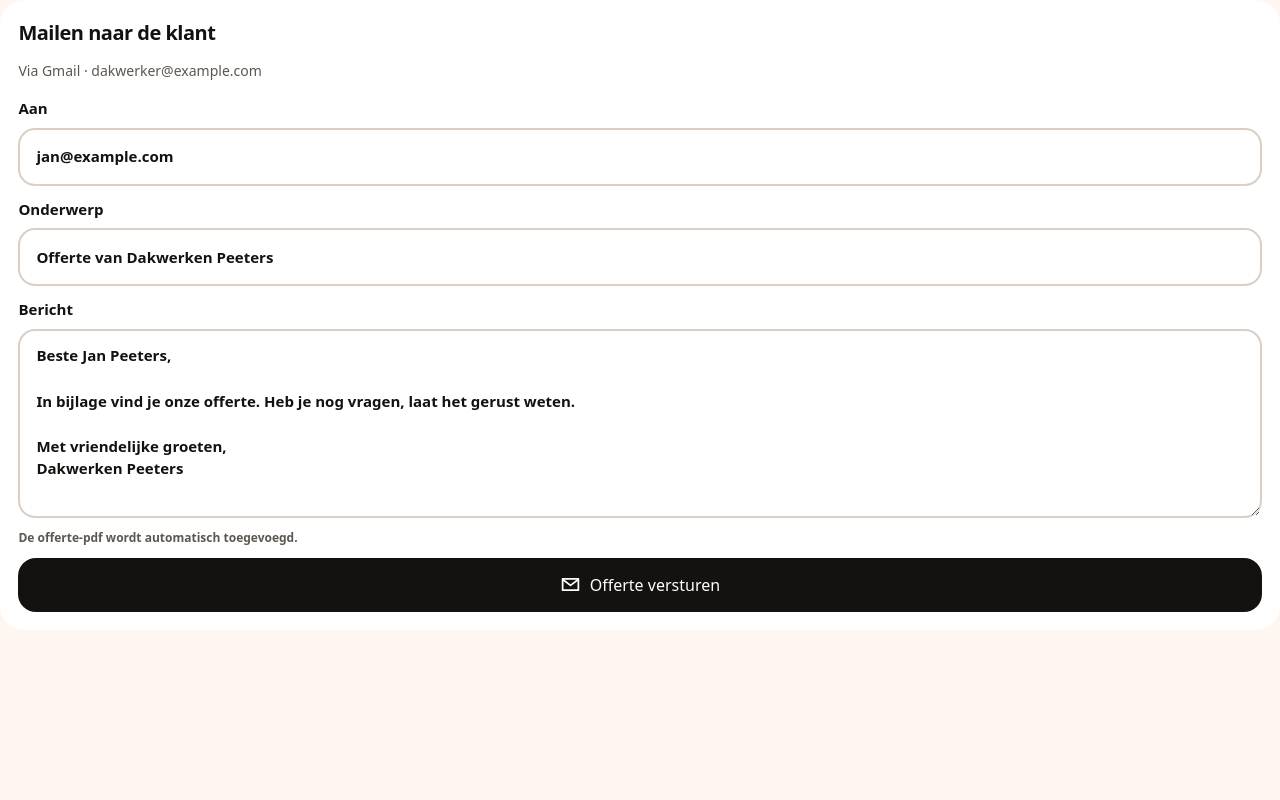
Test: EmailQuoteForm › prefills the customer and sends the quote from the connected mailbox
Check: the field labelled "Aan" holds "jan@example.com", box x1=18 y1=128 x2=1262 y2=186
Check: the field labelled "Onderwerp" holds "Offerte van Dakwerken Peeters", box x1=18 y1=228 x2=1262 y2=286
Step 1. Click the button "Offerte versturen" → (640, 585), box x1=18 y1=558 x2=1262 y2=612
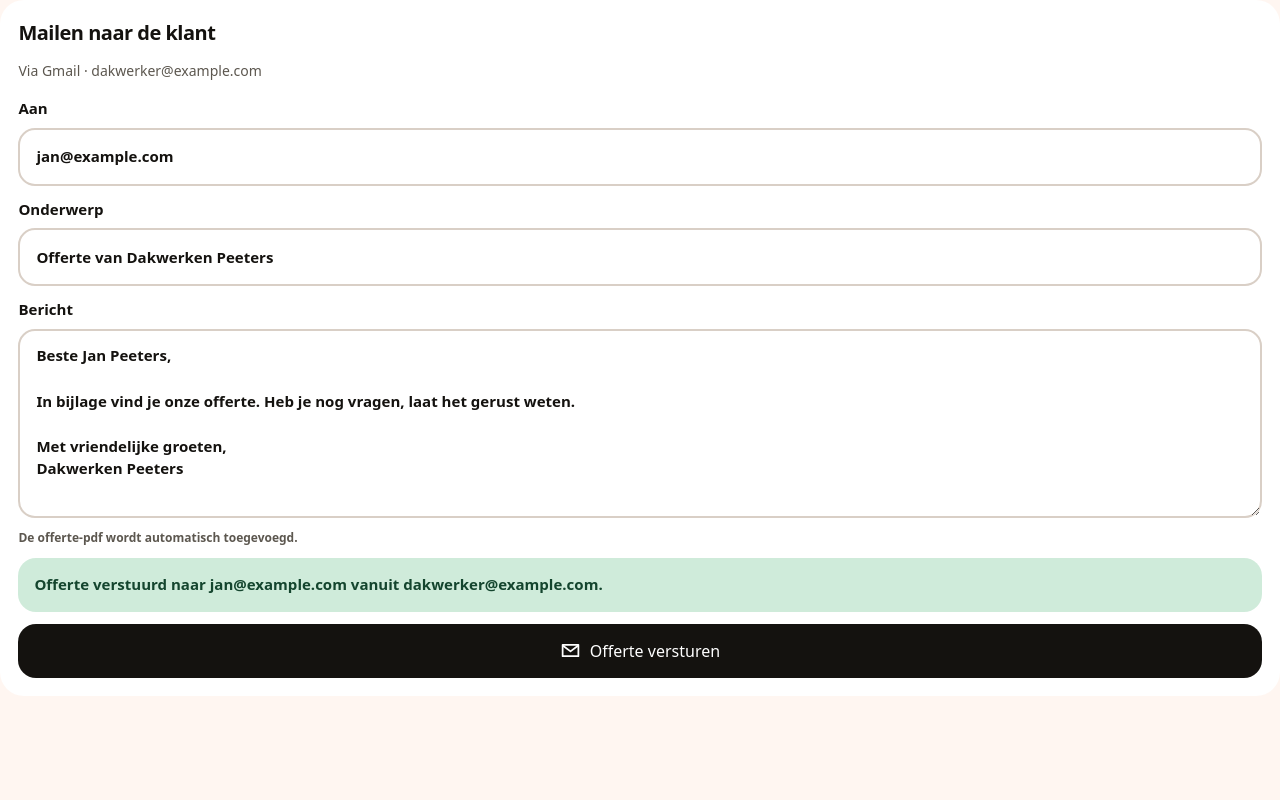
Check: the message reads "Offerte verstuurd naar jan@example.com vanuit dakwerker@example.com.", box x1=34 y1=574 x2=603 y2=594
